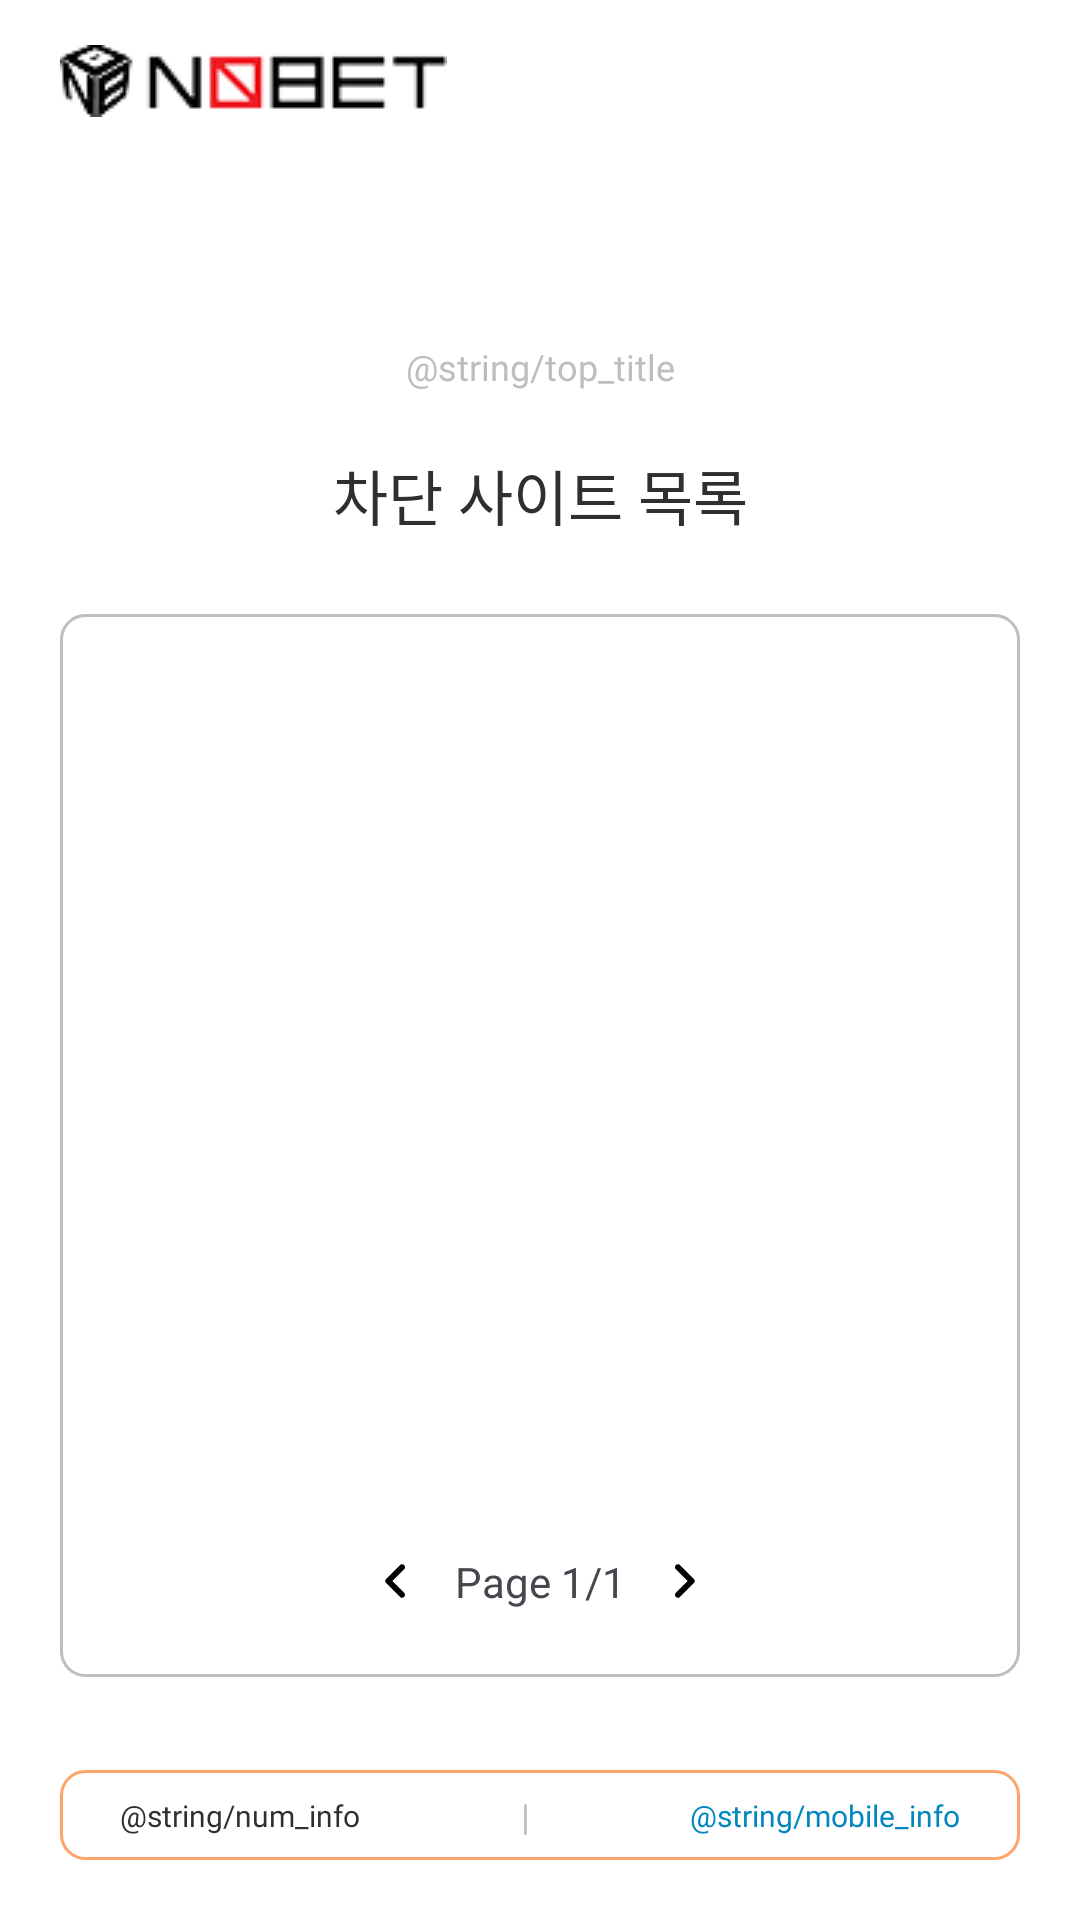

Screen size 1080px×1920px. Icon name, then its center in pixels as (x,y):
left arrow: (395,1581)
right arrow: (685,1581)
